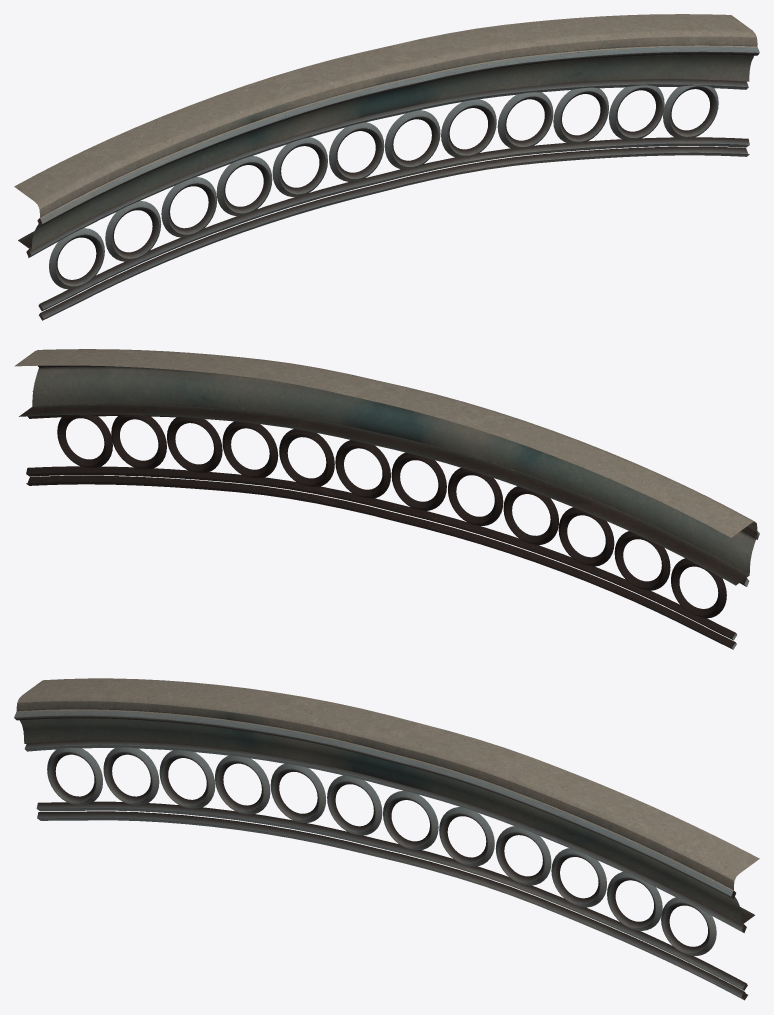
Rendered from SM_WindowsOrnamentsTop.FBX.
3 views of the same model, one above another, from view 1: azimuth 30°, elevation 25°; view 2: azimuth 150°, elevation 25°; view 3: azimuth 330°, elevation 25° (orthographic).
Parts seen in each view (by area): view 1: SM_WindowsOrnamentsTop; view 2: SM_WindowsOrnamentsTop; view 3: SM_WindowsOrnamentsTop.
Part boxes in pixels (box(x1,y1,x2,y2)): SM_WindowsOrnamentsTop: box(14, 14, 759, 320); SM_WindowsOrnamentsTop: box(14, 349, 759, 649); SM_WindowsOrnamentsTop: box(14, 678, 759, 1000).
Size of the model in its own units: 860 by 59.2 by 210.
